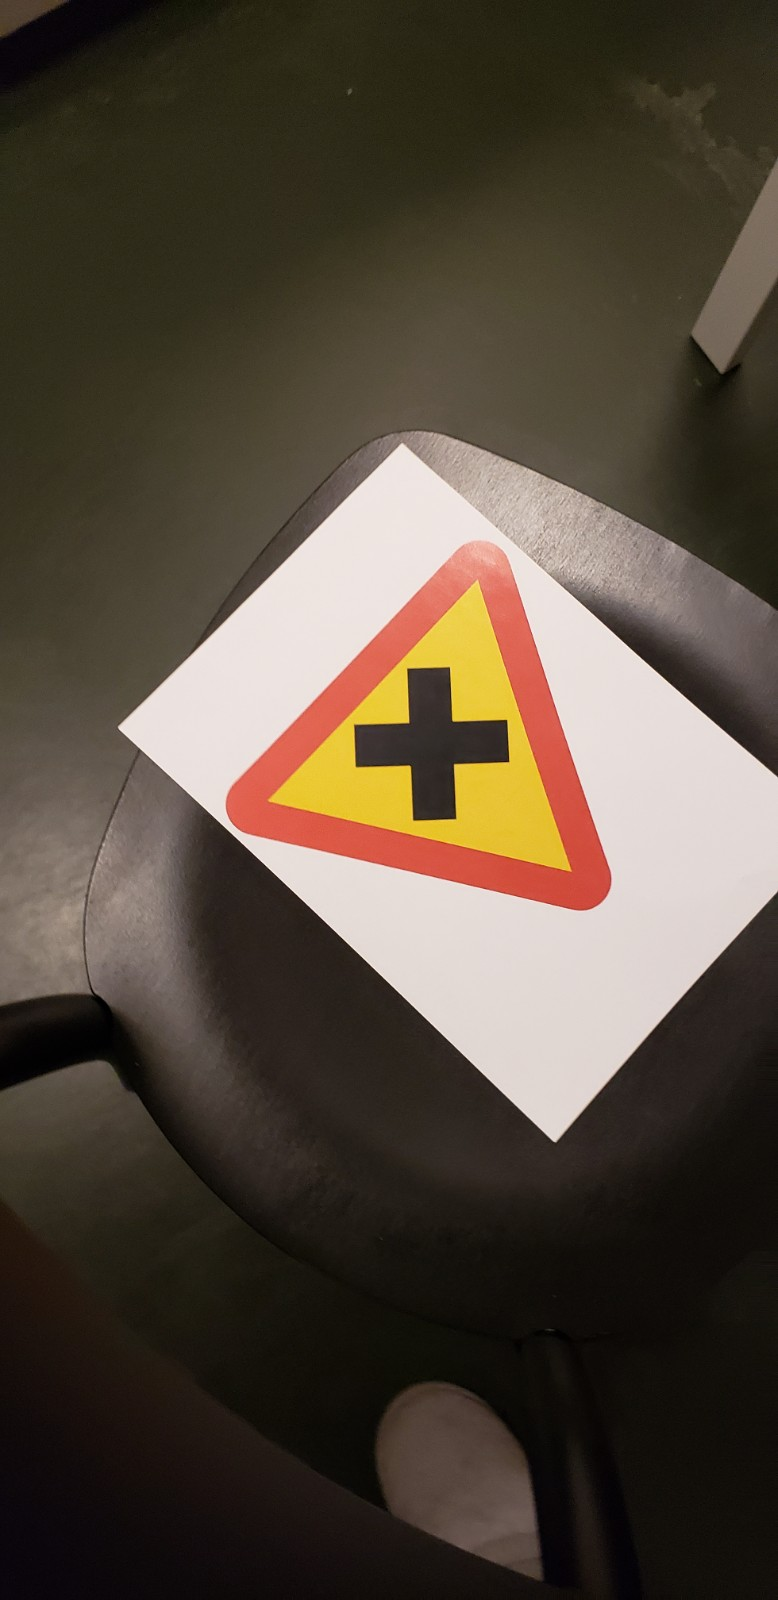junction: (206, 547, 619, 905)
